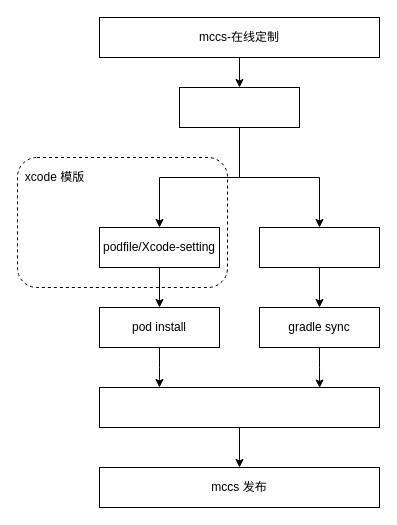
Image size: 397x525. Some labels were removed from this diagram. The shapes that lost their labels are listed below. From the top down, each one's centre as x and y in pixels, then its label:
(x=239, y=107): 模块选择
(x=319, y=247): maven
(x=239, y=407): CI
